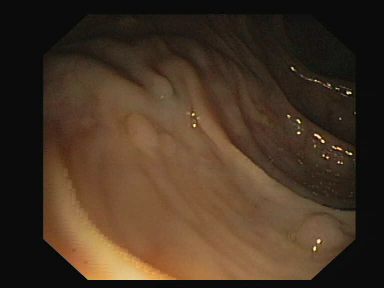polyp: (274, 193, 359, 256), (120, 105, 196, 167), (135, 64, 195, 108)
